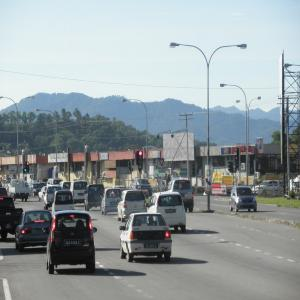Vehicle-registration-plate: (66, 240, 80, 247), (146, 245, 160, 250), (36, 228, 44, 235), (167, 209, 176, 215), (112, 203, 118, 207)
